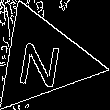N_N: (17, 32, 68, 88)
